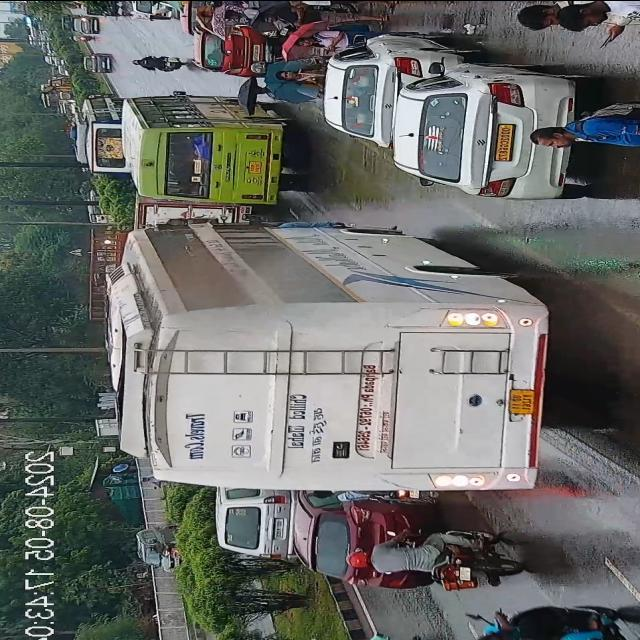2-wheelers: (351, 530, 517, 590), (427, 609, 640, 640), (130, 54, 192, 76), (69, 33, 97, 43)
bus: (109, 217, 553, 494), (112, 90, 282, 208), (76, 96, 128, 182)
car: (391, 42, 579, 200), (286, 496, 429, 590), (324, 36, 440, 148), (212, 488, 292, 563), (194, 34, 268, 80), (134, 524, 182, 572), (84, 51, 114, 79), (72, 15, 100, 34)
pedestrian: (538, 101, 640, 151), (518, 0, 640, 40), (569, 0, 640, 48), (274, 26, 372, 58), (258, 64, 328, 106), (265, 0, 394, 14), (198, 0, 248, 18), (120, 7, 170, 21)
